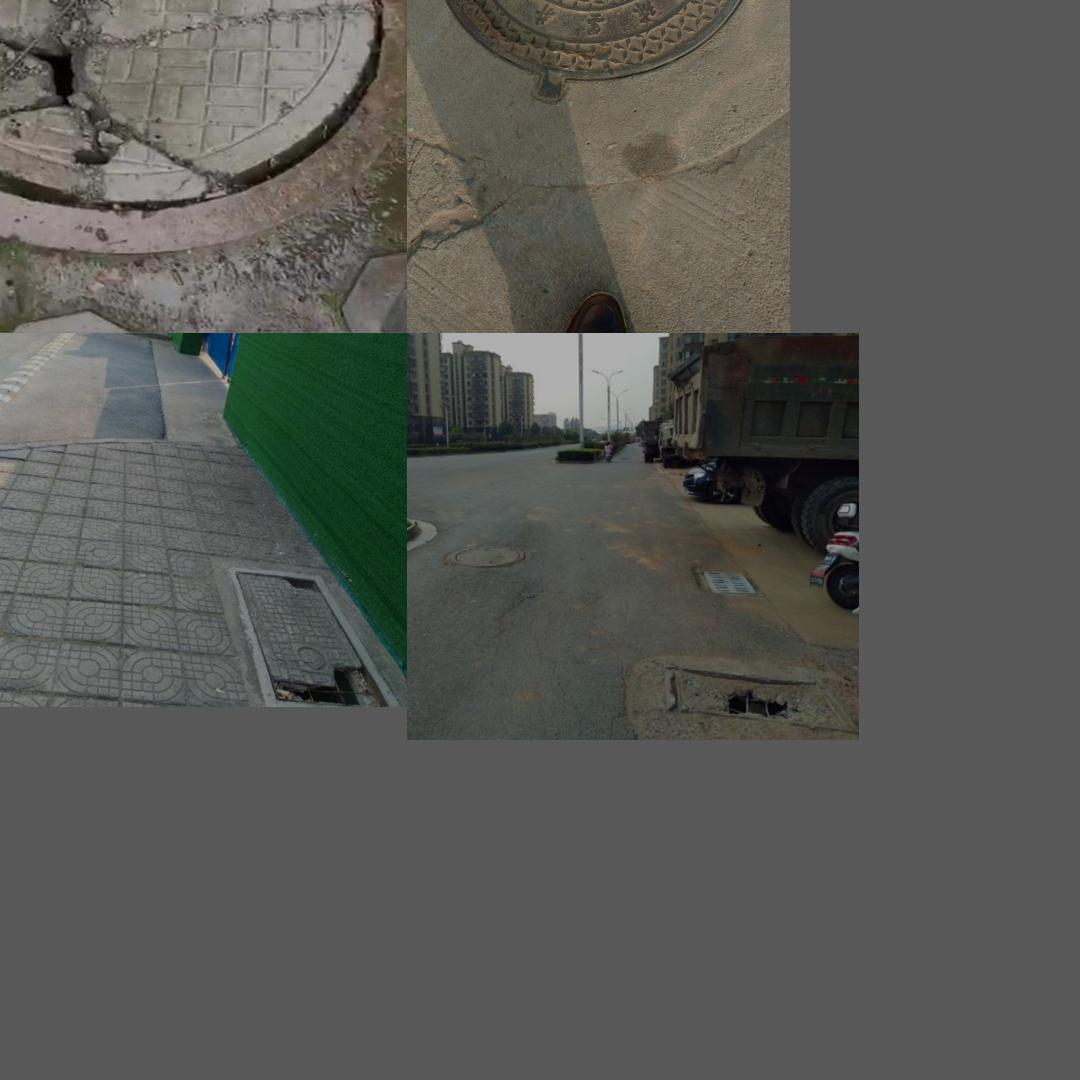broke: (0, 0, 387, 259), (432, 0, 760, 106), (227, 567, 401, 707), (662, 655, 849, 726)
